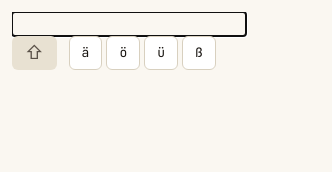
AccentPicker › uppercase › leaves characters with no capital form unchanged under Shift (German ß)
Click the button named "uppercase". click: click(34, 53)
box: [12, 36, 57, 70]
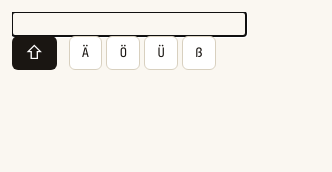
// ß has no distinct single-key capital — still labelled / inserts ß
Click the button named "insert ß". click: click(199, 53)
box: [182, 36, 216, 70]
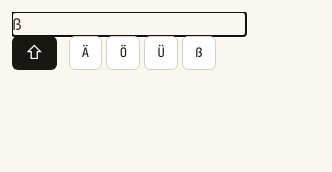
Check: the field with test id "target" holds "ß", box [12, 12, 246, 36]
